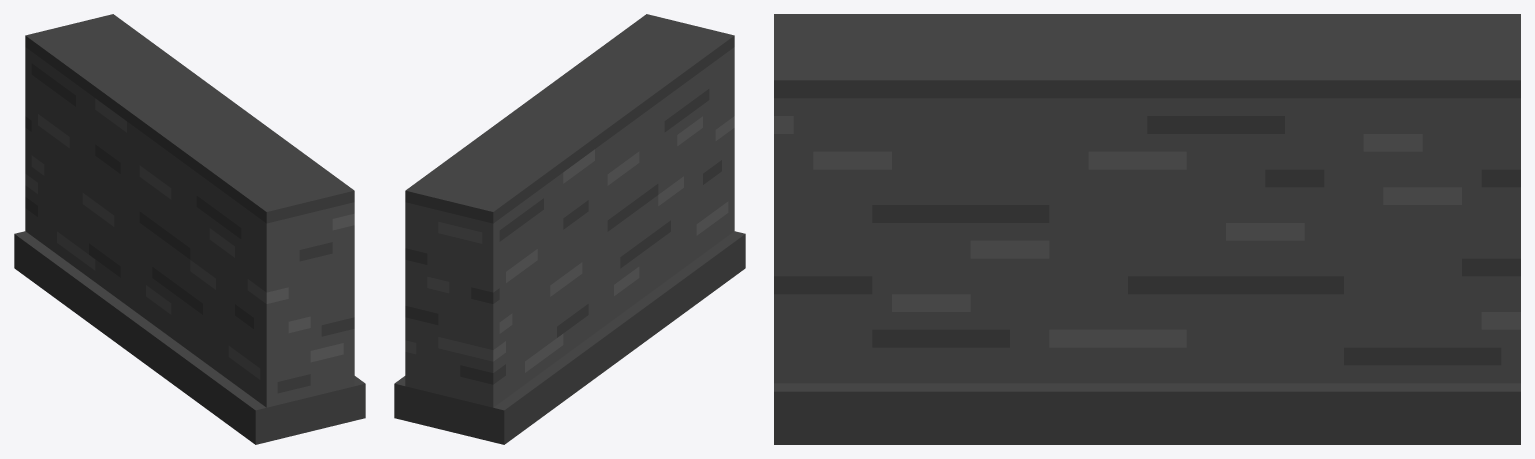
File: WallPiece.obj
3 views of the same model, side by side, from view 1: azimuth 30°, elevation 25°; view 2: azimuth 150°, elevation 25°; view 3: azimuth 270°, elevation 25° (orthographic). The views are drawn at different scales.
Size of the model in its own units: 1 by 2 by 3.8.
1 material, 1 textured.
